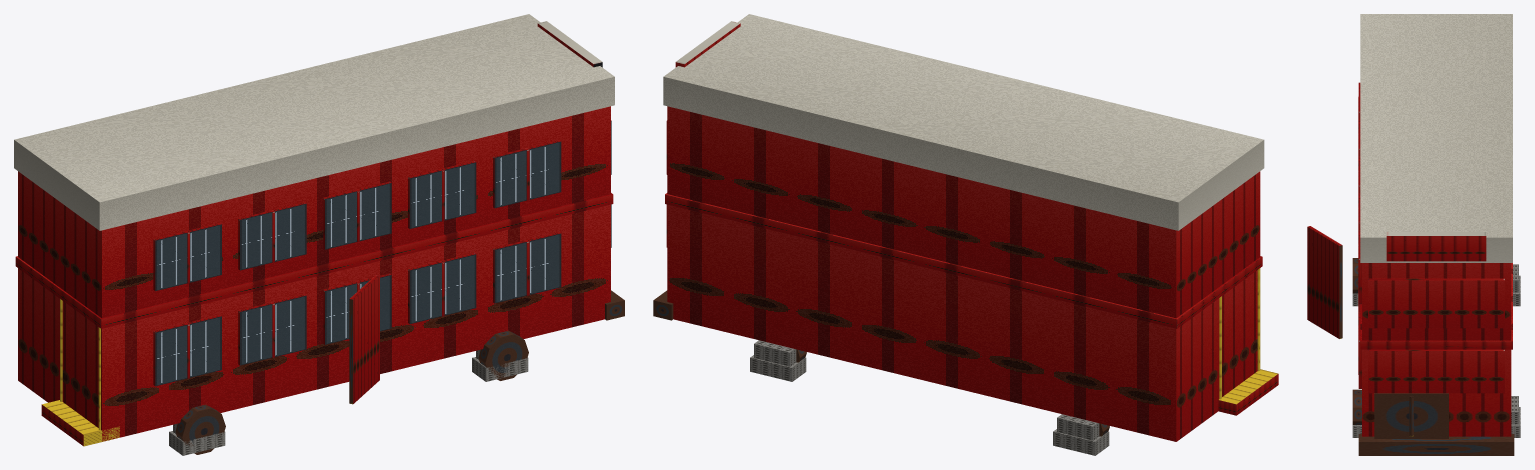
The model's file is prop_abandoned_bus.glb.
3 renders of one model, left to right at view 1: azimuth 30°, elevation 25°; view 2: azimuth 150°, elevation 25°; view 3: azimuth 270°, elevation 25°, orthographic. The views are drawn at different scales.
Visible parts, largest first — view 1: Prop_Abandoned_Bus; view 2: Prop_Abandoned_Bus; view 3: Prop_Abandoned_Bus.
Boxes of the visible parts, x1=… form: Prop_Abandoned_Bus: x1=14, y1=14, x2=624, y2=455; Prop_Abandoned_Bus: x1=653, y1=14, x2=1278, y2=455; Prop_Abandoned_Bus: x1=1307, y1=14, x2=1520, y2=455.
Size of the model in its own units: 8.9 by 4.34 by 3.43.
Materials: 1 (1 with a texture image).
